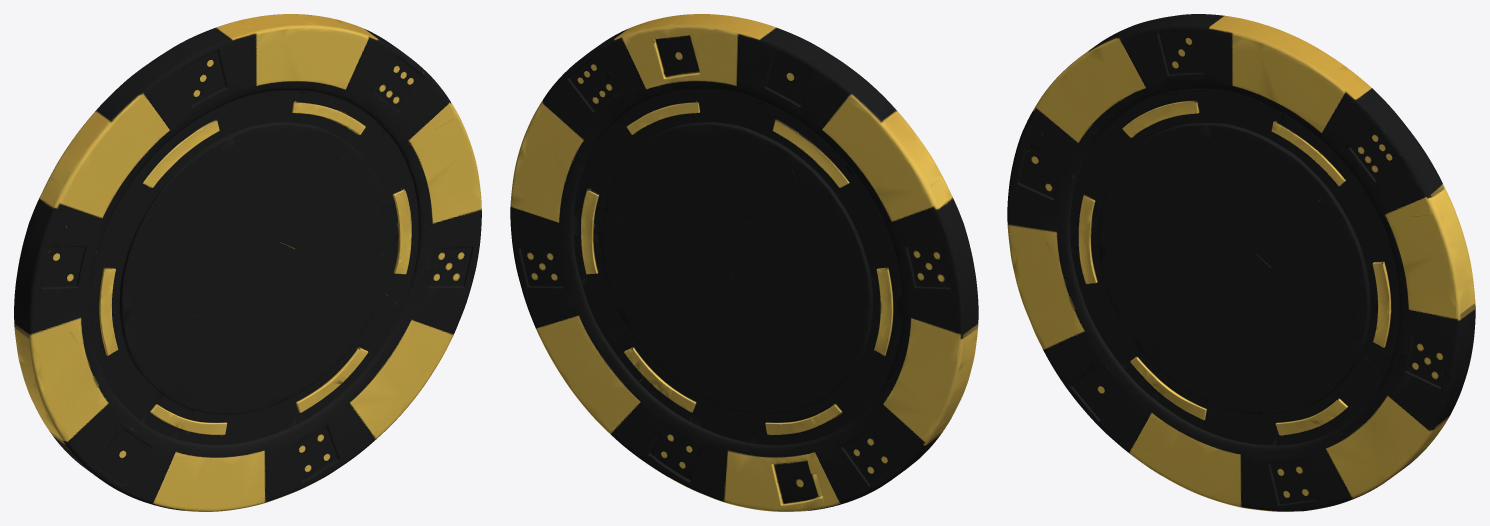
Rendered from shakhmatnaya-figura.glb.
The picture shows the model from 3 angles, left to right: view 1: azimuth 30°, elevation 25°; view 2: azimuth 150°, elevation 25°; view 3: azimuth 330°, elevation 25°; orthographic projection.
Visible parts, largest first — view 1: node_0; view 2: node_0; view 3: node_0.
Boxes of the visible parts, x1,y1,x2,y2 form: node_0: (14,14,481,511); node_0: (510,14,978,511); node_0: (1007,14,1475,511).
Size of the model in its own units: 0.003 by 0.003 by 0.000202.
1 material, 1 textured.
